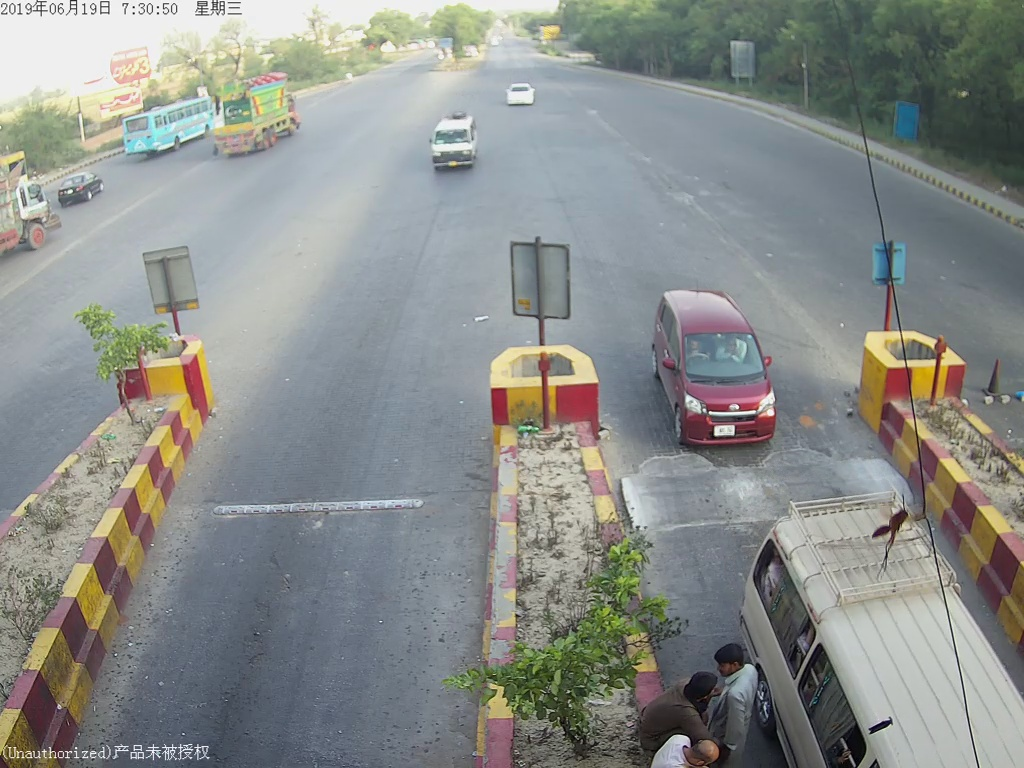Cat-1: (651, 278, 785, 452)
Cat-2: (417, 115, 487, 171)
